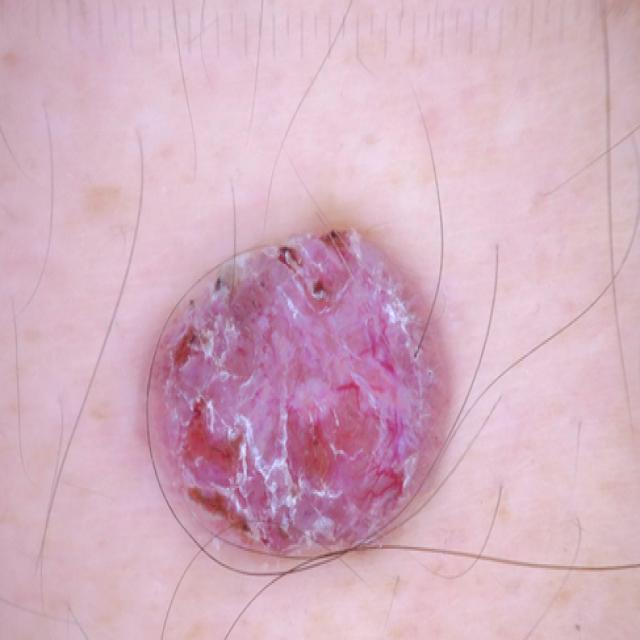Carcinoma: (101, 180, 496, 640)
